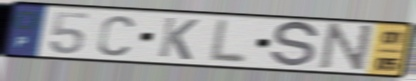5: (47, 10, 91, 56)
C: (95, 14, 136, 58)
K: (155, 16, 201, 62)
L: (205, 17, 250, 66)
N: (316, 22, 376, 75)
S: (267, 19, 321, 70)
